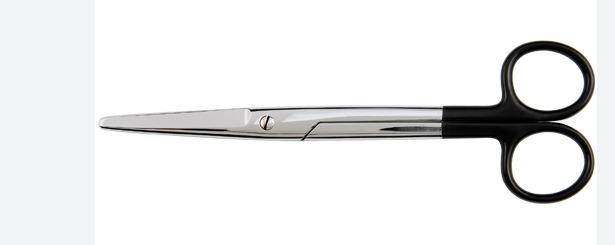Straight Mayo: (93, 40, 600, 213)
